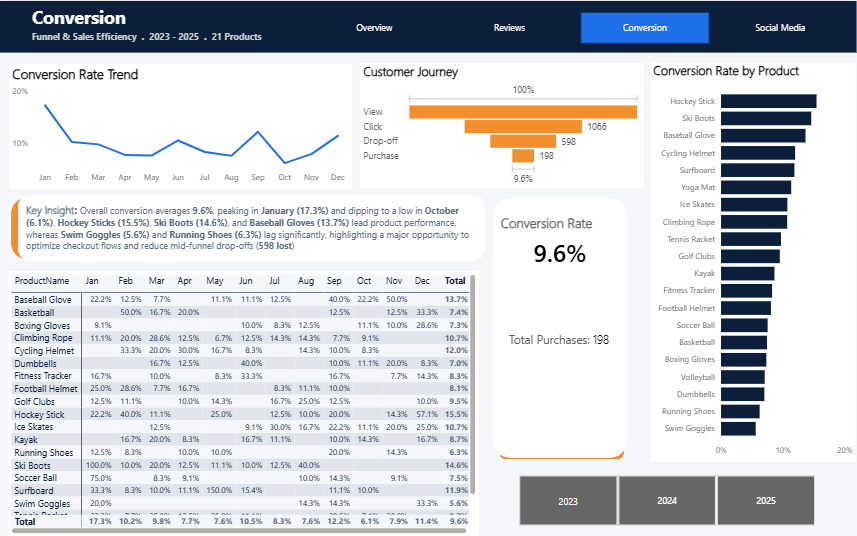

Layout of this report page (visuals, bound fields, positions):
{"tool":"powerbi","page":{"name":"Conversion","canvas":[1283,800],"ordinal":2},"visuals":[{"type":"lineChart","title":"Conversion Rate Trend","fields":{"Category":["Calendar.MonthNameShort"],"Y":["_Measures.Conversion Rate"]},"box":[14.7,94.1,511.8,186.8],"z":0},{"type":"shape","box":[14.7,291.3,681.5,96.9],"z":0,"group":"g2"},{"type":"shape","box":[745.5,644.1,186.8,41.2],"z":0,"group":"g1"},{"type":"barChart","title":"Conversion Rate by Product","fields":{"Category":["dim_products.ProductName"],"Y":["_Measures.Conversion Rate"]},"box":[972.1,91.2,307.4,597.1],"z":1000},{"type":"cardVisual","fields":{"Data":["_Measures.Conversion Rate"]},"box":[717.6,275,239.7,426.5],"z":1000,"group":"g1"},{"type":"textbox","box":[27.7,289.7,697.3,97.7],"z":1000,"group":"g2"},{"type":"funnel","title":"Customer Journey","fields":{"Category":["fct_customer_journey.Action"],"Y":["_Measures.Number of Customer Journey"]},"box":[538.2,92.6,423.5,186.8],"z":2000},{"type":"pivotTable","fields":{"Rows":["dim_products.ProductName"],"Columns":["Calendar.MonthNameShort"],"Values":["_Measures.Conversion Rate"]},"box":[13.2,402.9,702.9,397.1],"z":3000},{"type":"textbox","box":[0,0,1280,77.1],"z":4000},{"type":"pageNavigator","box":[464.3,17.1,800,47.1],"z":5000},{"type":"slicer","fields":{"Values":["Calendar.Year"]},"box":[750,701.5,491.2,88.2],"z":6000},{"type":"group","id":"g1","title":"Group 1","box":[717.6,275,239.7,426.5],"z":7000},{"type":"group","id":"g2","title":"KeyInsightBox","box":[14.7,289.7,710.3,98.5],"z":8000}]}

Visuals, with their boxes in screenshot pixels (x1, y1, x2, y2), scaled from the page's 1283x800 canvas onto the 857x536 screenshot:
"Conversion Rate Trend" lineChart: (10, 63, 352, 188)
shape: (10, 195, 465, 260)
shape: (498, 432, 623, 459)
"Conversion Rate by Product" barChart: (649, 61, 855, 461)
cardVisual - _Measures.Conversion Rate: (479, 184, 639, 470)
textbox: (19, 194, 484, 260)
"Customer Journey" funnel: (359, 62, 642, 187)
pivotTable - dim_products.ProductName x Calendar.MonthNameShort: (9, 270, 478, 535)
textbox: (0, 0, 855, 52)
pageNavigator: (310, 11, 845, 43)
slicer - Calendar.Year: (501, 470, 829, 529)
"Group 1" group: (479, 184, 639, 470)
"KeyInsightBox" group: (10, 194, 484, 260)
